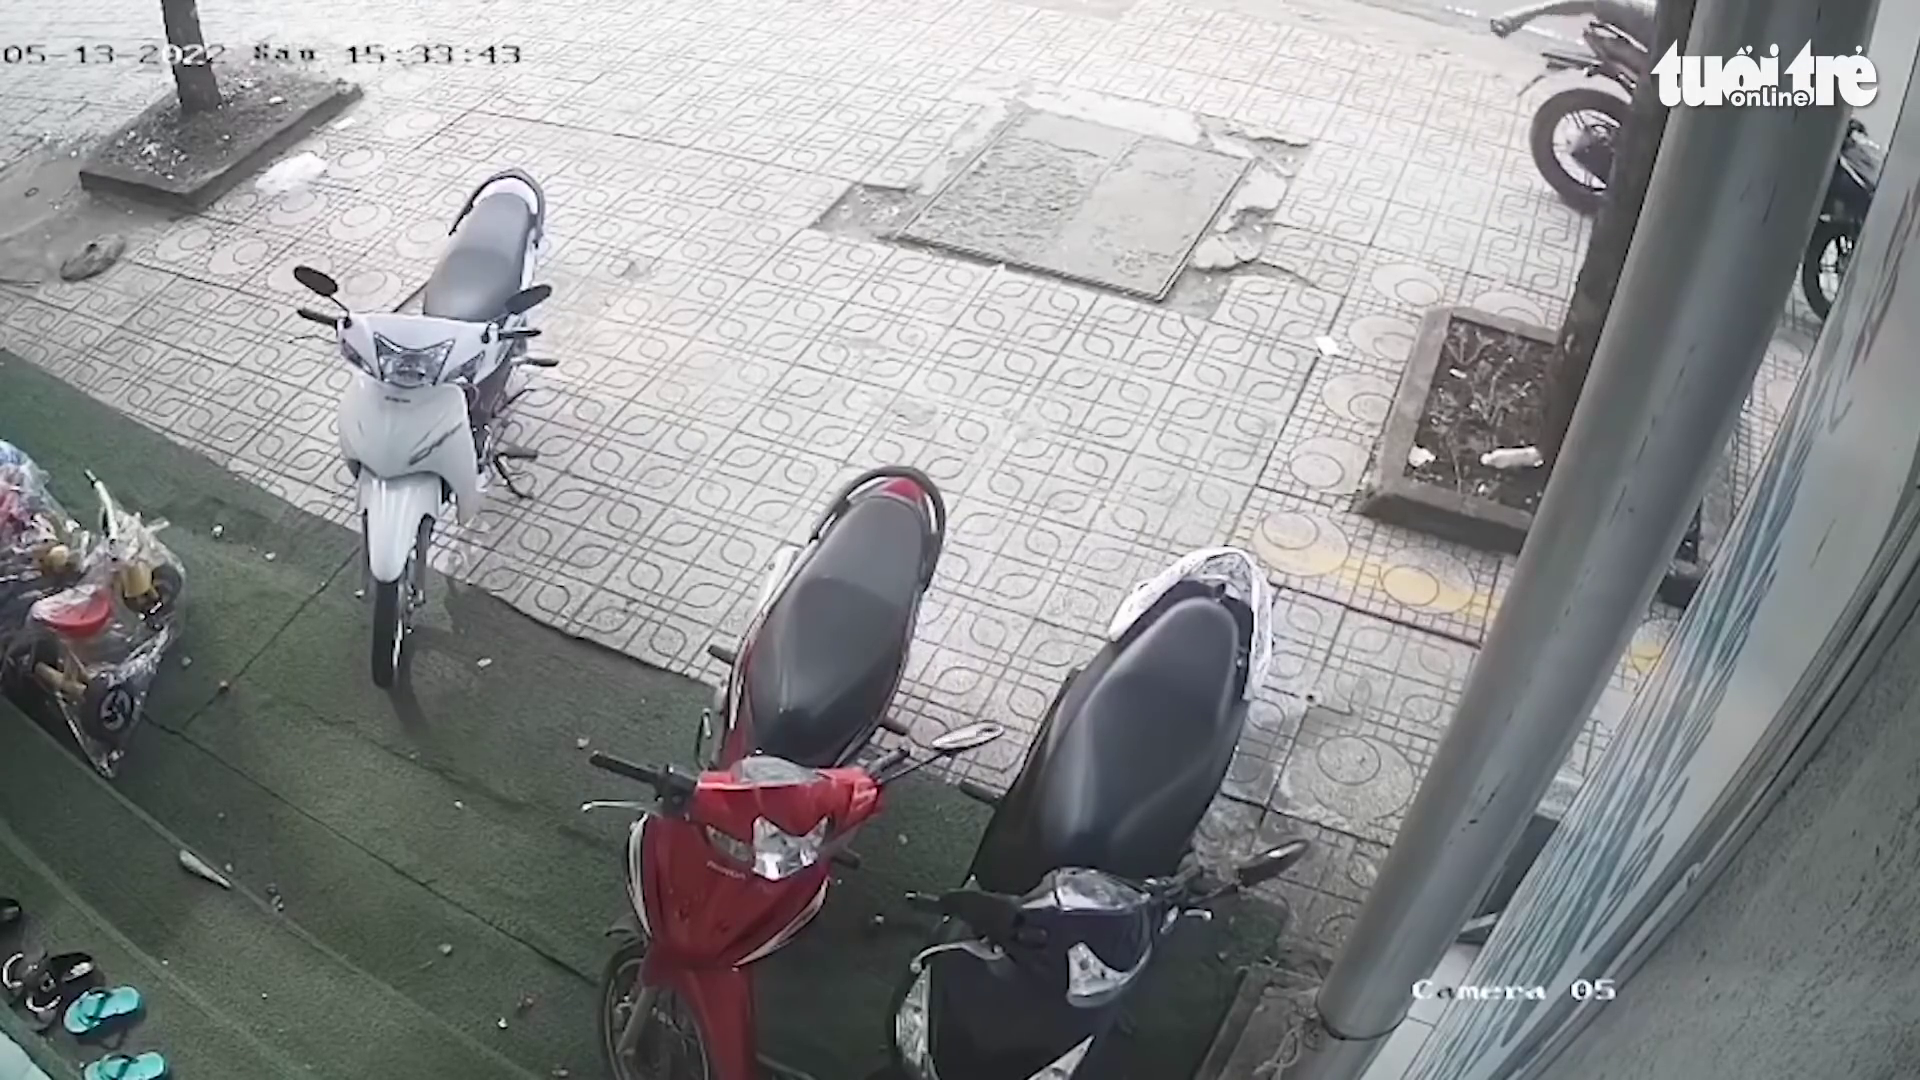Motorcycle: (579, 462, 1300, 1071), (579, 463, 951, 1072), (878, 550, 1303, 1072), (291, 170, 559, 692), (1493, 3, 1886, 324)
